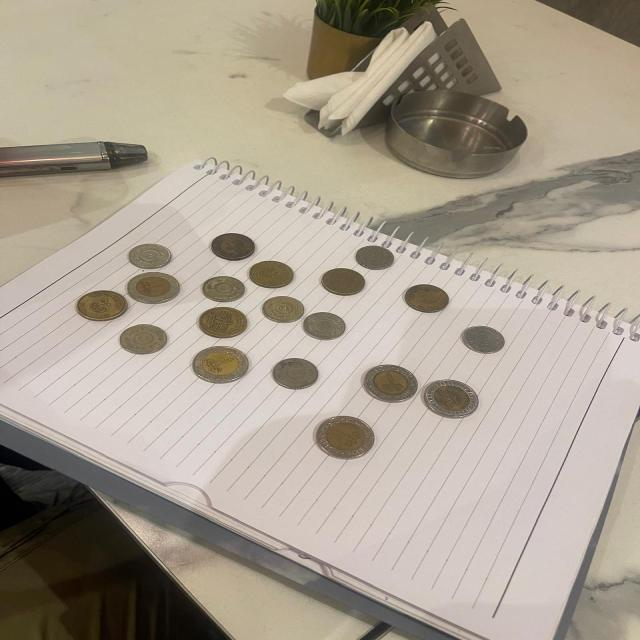Half Pound: (69, 288, 131, 323), (194, 304, 249, 341), (399, 281, 452, 316), (318, 265, 368, 297), (210, 230, 260, 261), (246, 259, 297, 289)
One Pound: (306, 414, 381, 462), (418, 376, 485, 420), (187, 343, 251, 388), (362, 361, 419, 410), (122, 267, 182, 305)
quarter pound: (456, 320, 508, 358), (260, 292, 306, 328), (119, 324, 170, 355), (198, 272, 247, 304), (350, 240, 397, 273), (271, 359, 319, 390), (128, 242, 173, 270), (303, 312, 346, 340)
